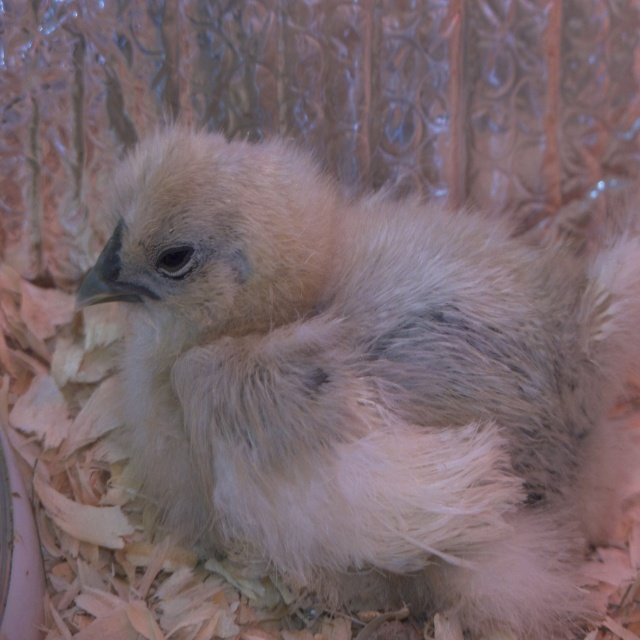Chicken: (82, 113, 640, 638)
